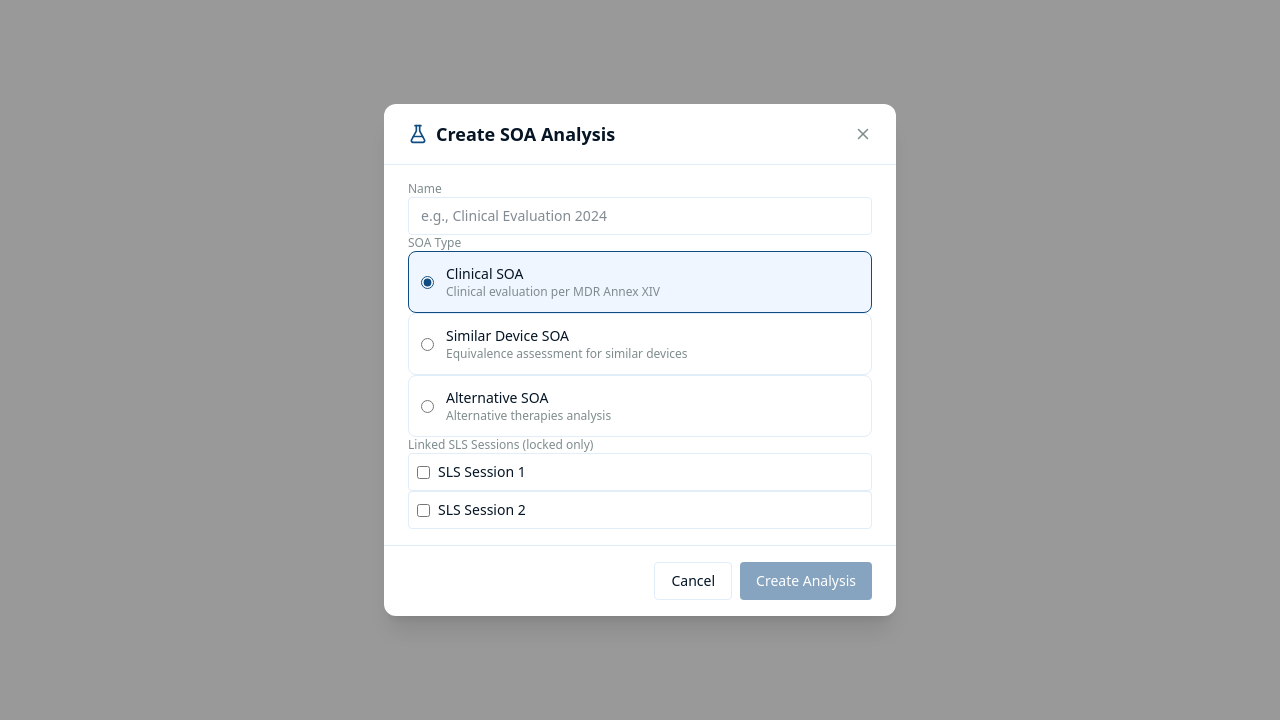
Test case: CreateSoaDialog › enables create button when form is valid
The image size is (1280, 720).
Type "My SOA" into the field with test id "soa-name-input" at x=640, y=216, box top-left (408, 197), bottom-right (872, 235)
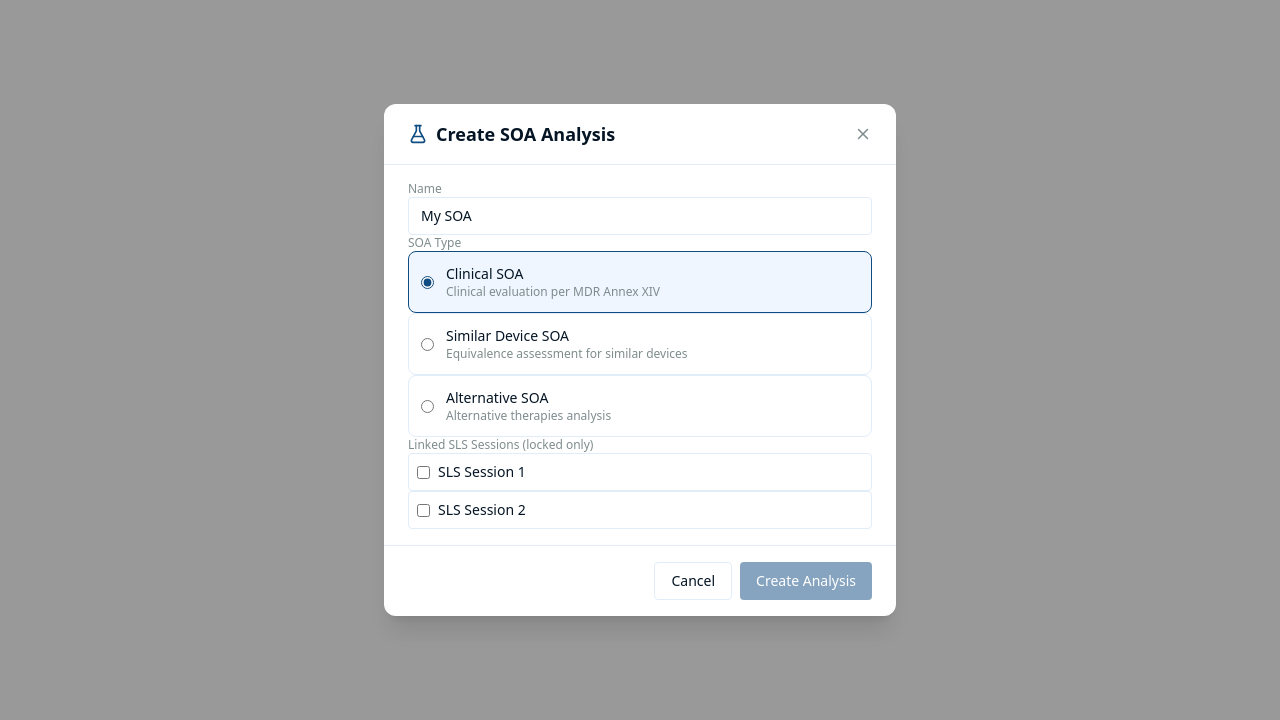
Click the checkbox with test id "session-check-sess-1" at x=424, y=472, box top-left (417, 466), bottom-right (430, 478)
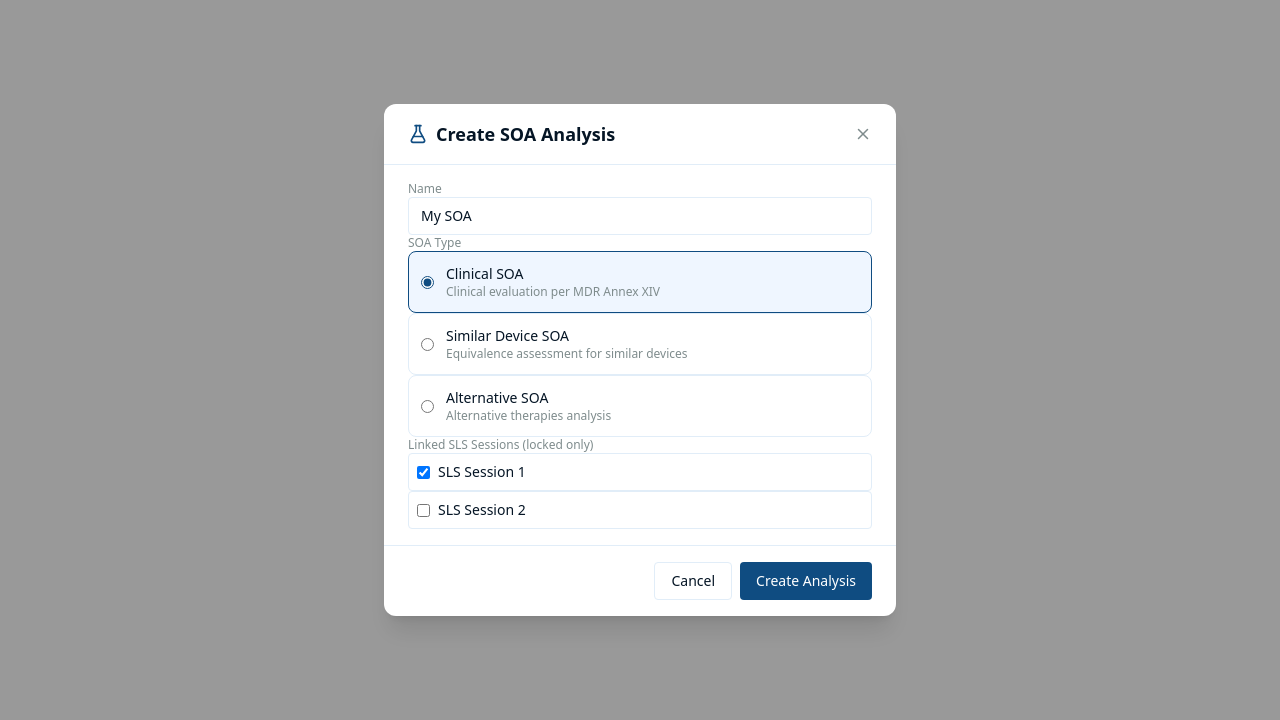
expect the button with test id "create-soa-btn" is enabled: met, box top-left (740, 562), bottom-right (872, 600)
